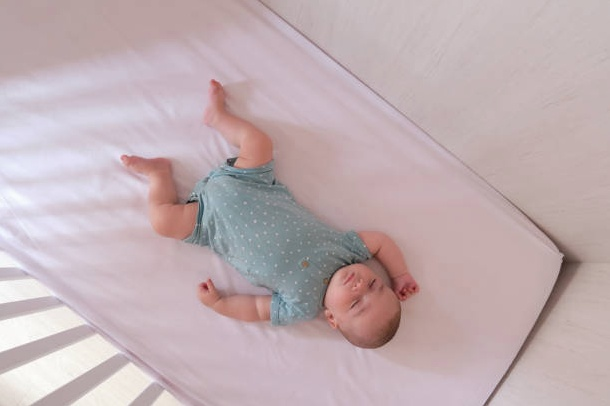baby: (121, 80, 418, 347)
crib: (0, 0, 561, 404)
